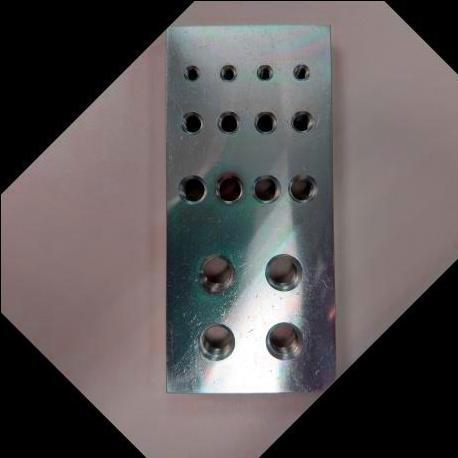hole: (255, 243, 312, 299), (256, 312, 313, 368), (189, 244, 244, 299), (189, 314, 244, 369), (281, 166, 325, 209), (207, 166, 251, 209), (244, 166, 287, 209), (171, 167, 214, 210), (211, 104, 246, 138), (285, 103, 319, 137), (248, 104, 282, 138), (175, 104, 209, 138), (288, 58, 314, 84), (215, 59, 241, 85), (179, 59, 204, 84), (253, 59, 277, 84)
